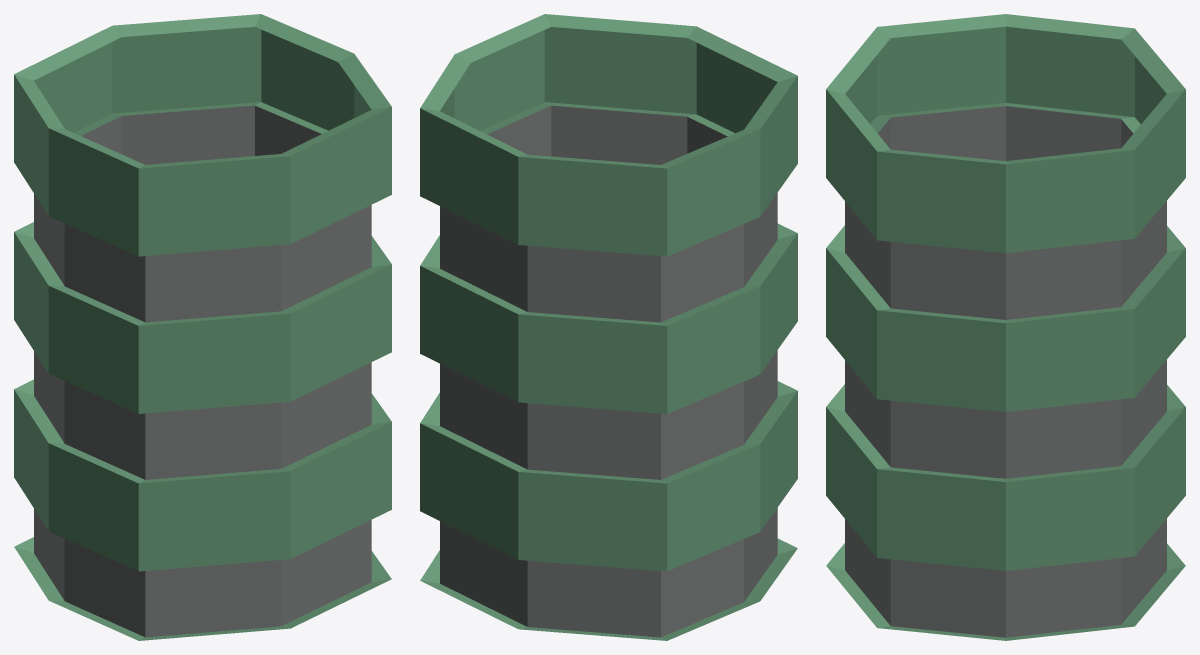
Rendered from DenemePipe.fbx.
3 views of the same model, side by side, from view 1: azimuth 30°, elevation 25°; view 2: azimuth 150°, elevation 25°; view 3: azimuth 270°, elevation 25° (orthographic).
Parts seen in each view (by area): view 1: Pipe; view 2: Pipe; view 3: Pipe.
Part boxes in pixels (<box>): Pipe: <box>14,14,391,640</box>; Pipe: <box>420,14,797,640</box>; Pipe: <box>826,14,1185,640</box>.
Size of the model in its own units: 94.9 by 142 by 95.9.
